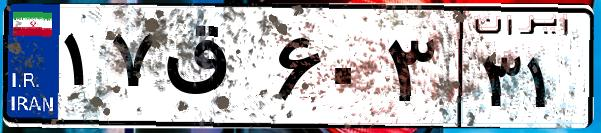0: (330, 28, 385, 110)
1: (57, 26, 110, 100), (525, 38, 570, 115)
3: (385, 28, 445, 110), (475, 38, 525, 113)
6: (270, 28, 330, 110)
7: (110, 28, 158, 98)
ق: (158, 20, 270, 120)
